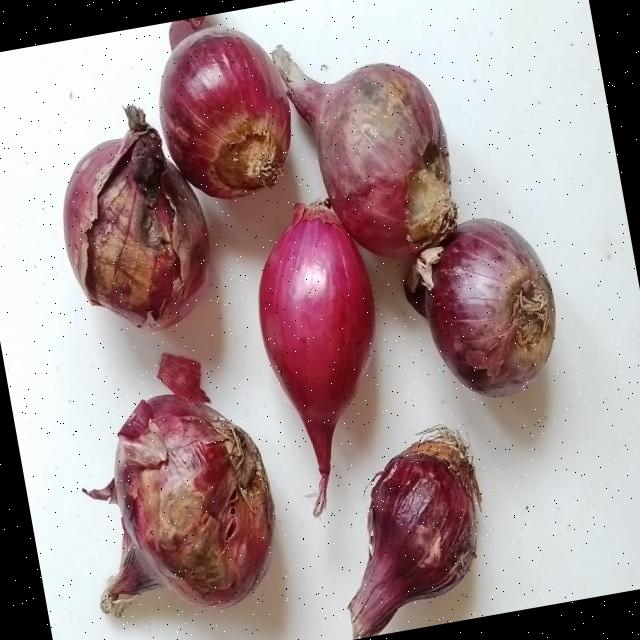Onion: (271, 46, 456, 258), (257, 202, 374, 516), (347, 426, 480, 639), (403, 218, 555, 398), (158, 28, 289, 199)
